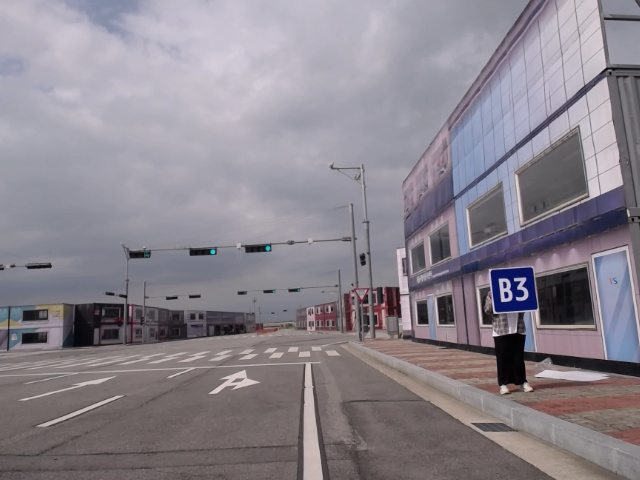delivery_b3: (490, 265, 541, 315)
straight_green_4: (241, 243, 275, 257), (186, 246, 218, 259), (262, 288, 278, 295), (287, 287, 301, 294)
